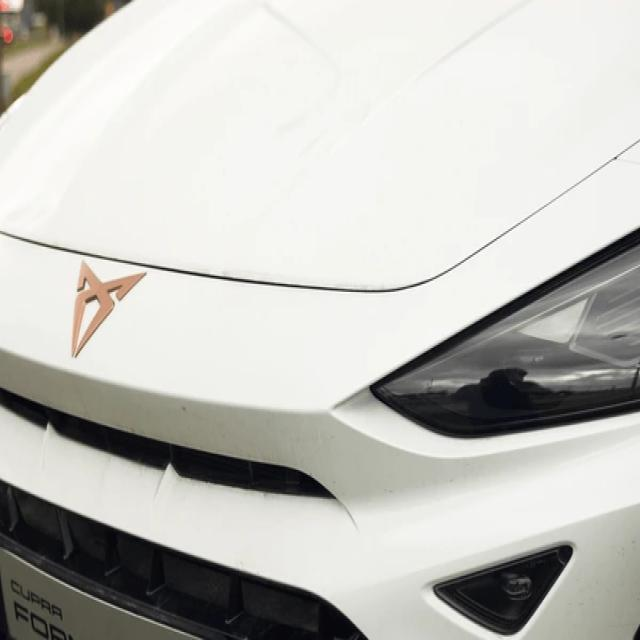cupra: (72, 260, 139, 357)
